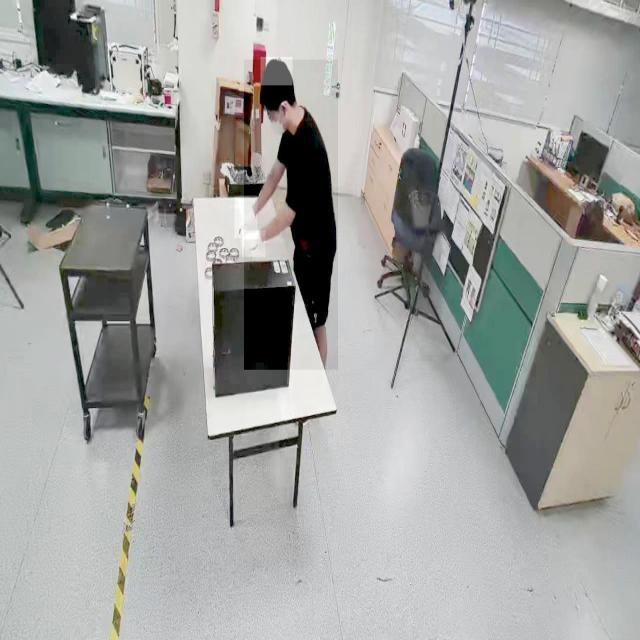gloves: (234, 196, 258, 240), (242, 230, 266, 258)
